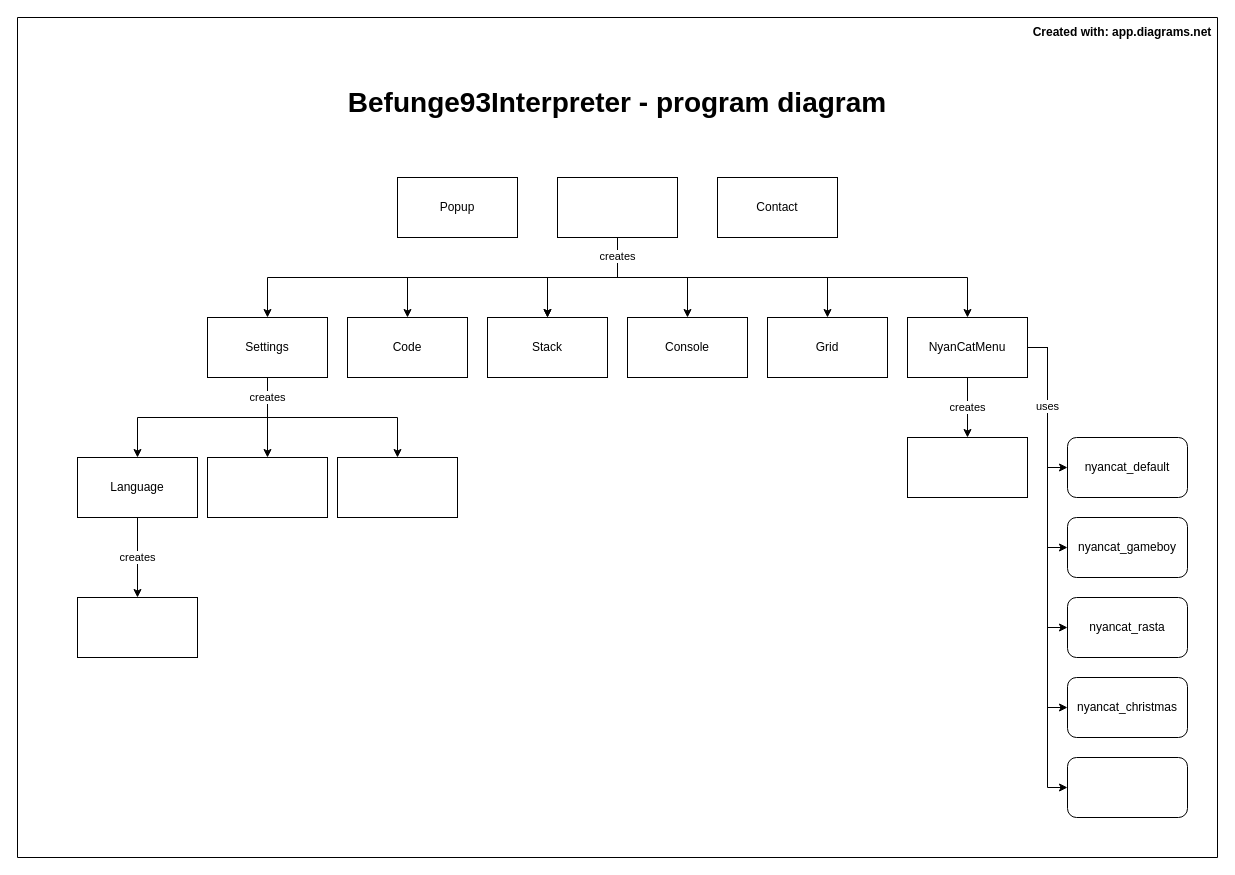
Image size: 1235x875. Some labels were removed from this diagram. The shapes that lost their labels are listed below. From the top down, each one's centre as x and y in pixels, then its label:
At (617,207): "Interpreter".
At (267,487): "Range".
At (397,487): "ColorPicker".
At (967,467): "NyanCat".
At (137,627): "ExampleProgram".
At (1127,787): "nyancat_mexican".
